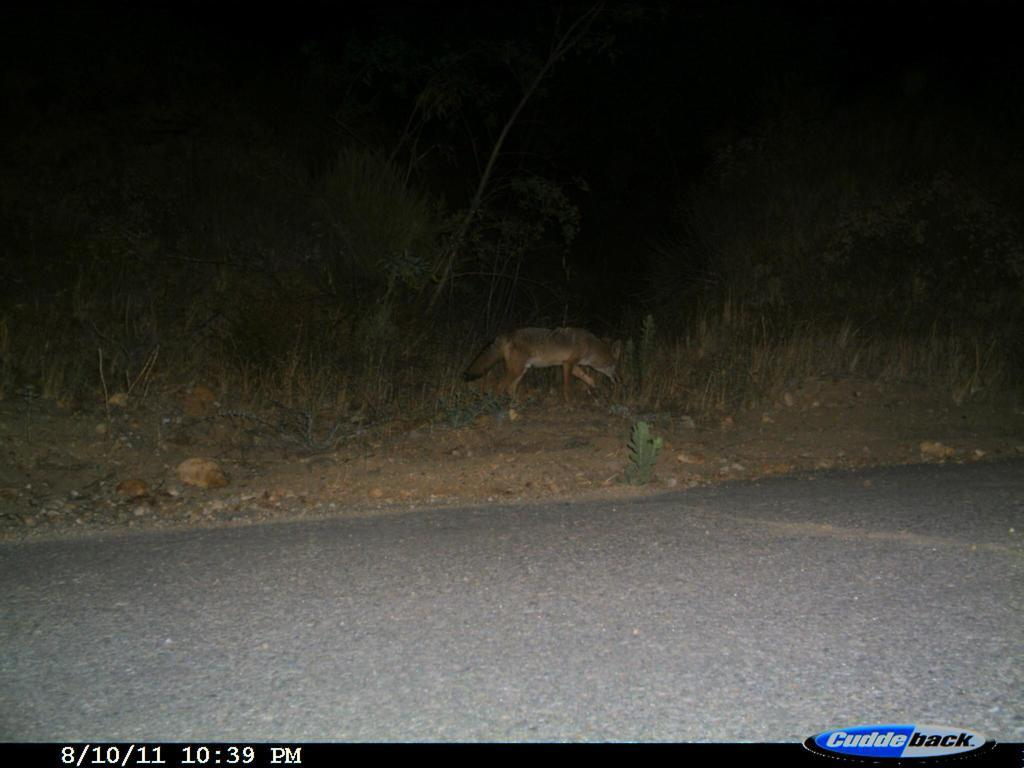coyote: (464, 315, 634, 420)
